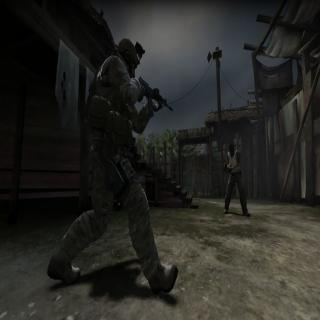CT-Body: (59, 35, 172, 293)
CT-Head: (107, 34, 144, 80), (225, 141, 237, 157)
T-Body: (223, 142, 247, 218)
